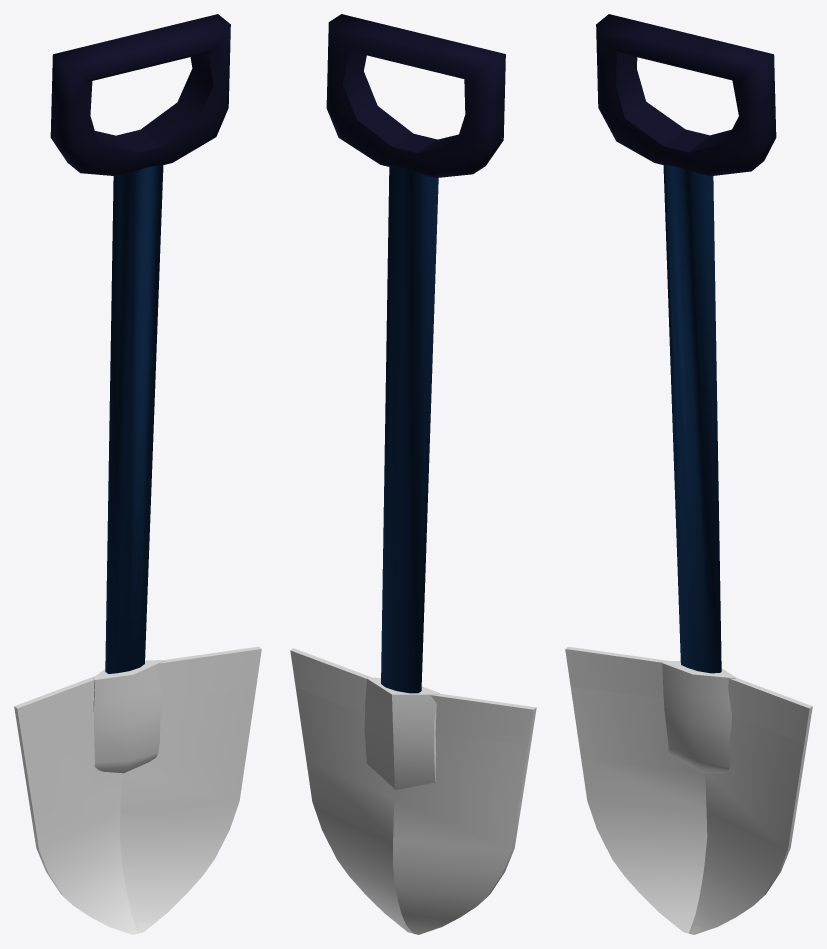
Rendered from shovel.fbx.
3 renders of one model, left to right at view 1: azimuth 30°, elevation 25°; view 2: azimuth 150°, elevation 25°; view 3: azimuth 330°, elevation 25°, orthographic.
Visible parts, largest first — view 1: Cube, Cylinder, Cube.001, Cube.002; view 2: Cube, Cylinder, Cube.001, Cube.002; view 3: Cube, Cylinder, Cube.001, Cube.002.
Boxes of the visible parts, left/top/right/bottom form: Cube: left=14, top=646, right=261, bottom=934; Cylinder: left=105, top=165, right=163, bottom=673; Cube.001: left=50, top=14, right=230, bottom=176; Cube.002: left=93, top=660, right=163, bottom=773; Cube: left=290, top=648, right=536, bottom=934; Cylinder: left=381, top=166, right=438, bottom=693; Cube.001: left=326, top=14, right=505, bottom=177; Cube.002: left=364, top=676, right=439, bottom=789; Cube: left=565, top=646, right=812, bottom=934; Cylinder: left=663, top=165, right=721, bottom=673; Cube.001: left=596, top=14, right=776, bottom=176; Cube.002: left=662, top=661, right=735, bottom=773.
Bounding box in the file's own units: 2 × 7.01 × 0.5121.
